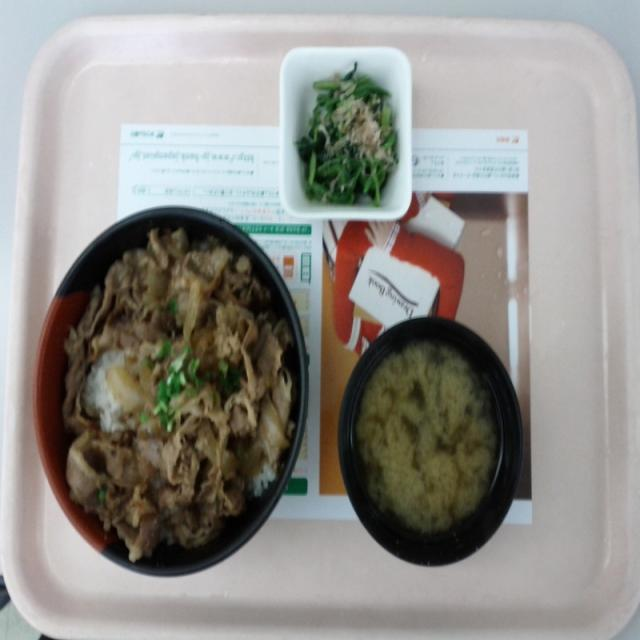汤锅炖物: (333, 305, 528, 566)
